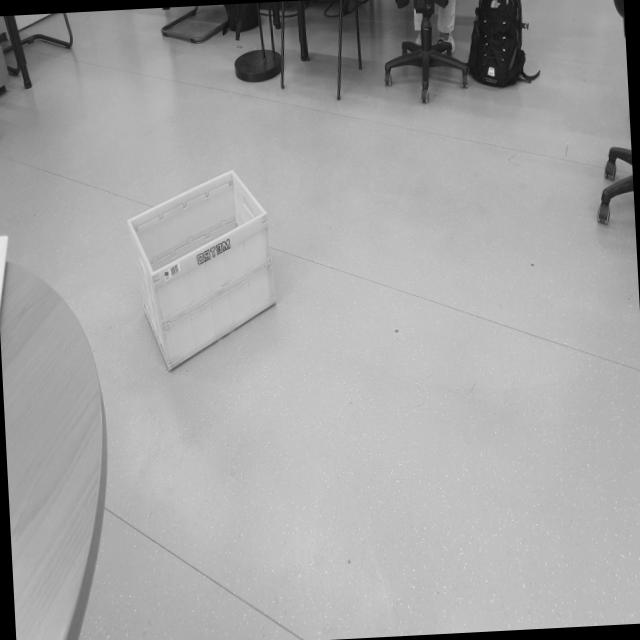box: (121, 159, 288, 388)
